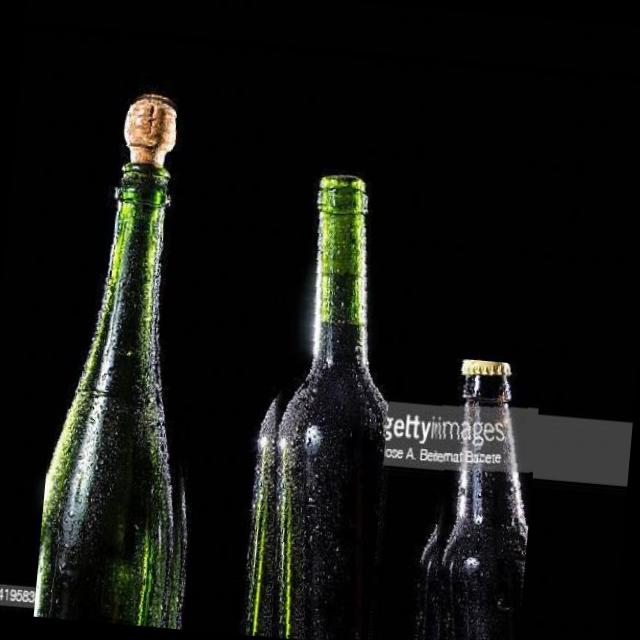Glass: (34, 85, 230, 629), (238, 167, 408, 640), (407, 356, 542, 640)
